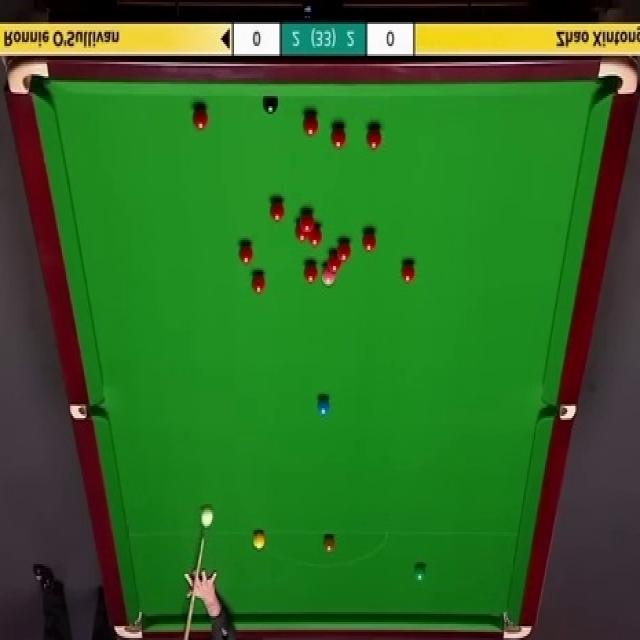black-ball: (264, 96, 282, 115)
blue-ball: (316, 398, 331, 415)
brown-ball: (323, 530, 336, 552)
green-ball: (415, 567, 425, 582)
pink-ball: (322, 266, 336, 286)
red-ball: (307, 221, 324, 247), (302, 112, 320, 136), (331, 124, 346, 152), (191, 107, 208, 131), (272, 199, 288, 223), (400, 262, 416, 286), (238, 242, 254, 263), (252, 270, 265, 294), (300, 210, 314, 232), (368, 127, 382, 149), (337, 238, 350, 260), (295, 222, 309, 241), (327, 254, 341, 273), (362, 232, 376, 250), (303, 264, 316, 283)
white-ball: (199, 506, 216, 529)
yellow-ball: (253, 530, 265, 550)
